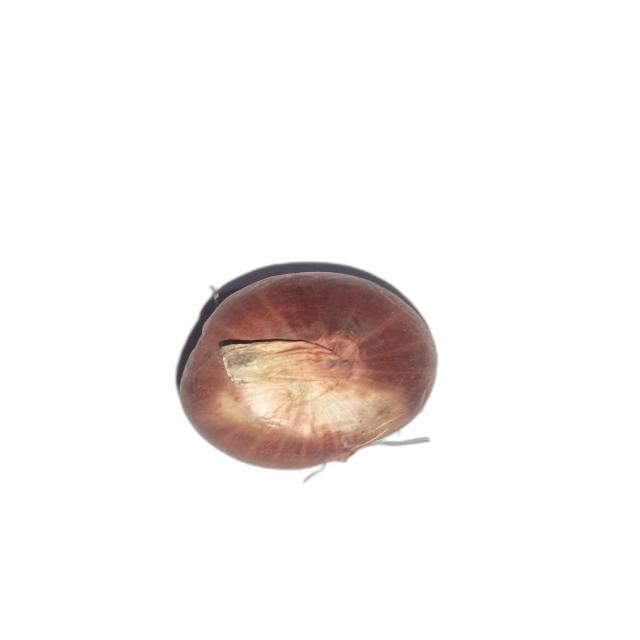onion: (178, 270, 441, 472)
